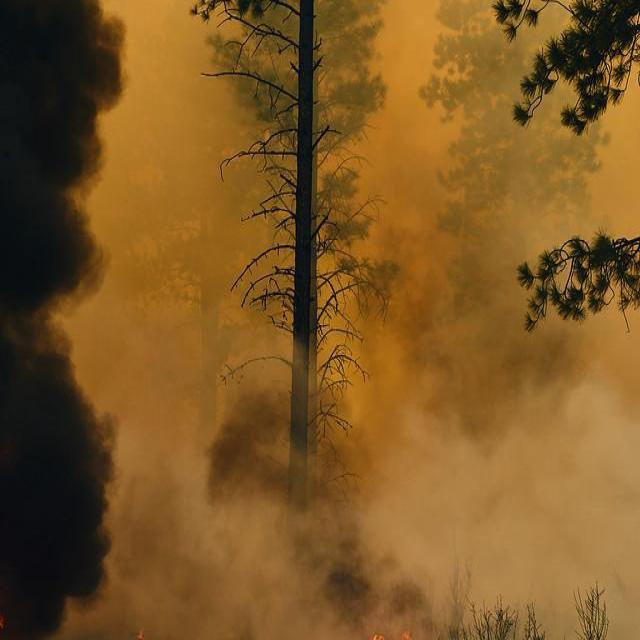smoke: (27, 21, 172, 604), (388, 326, 616, 584)
